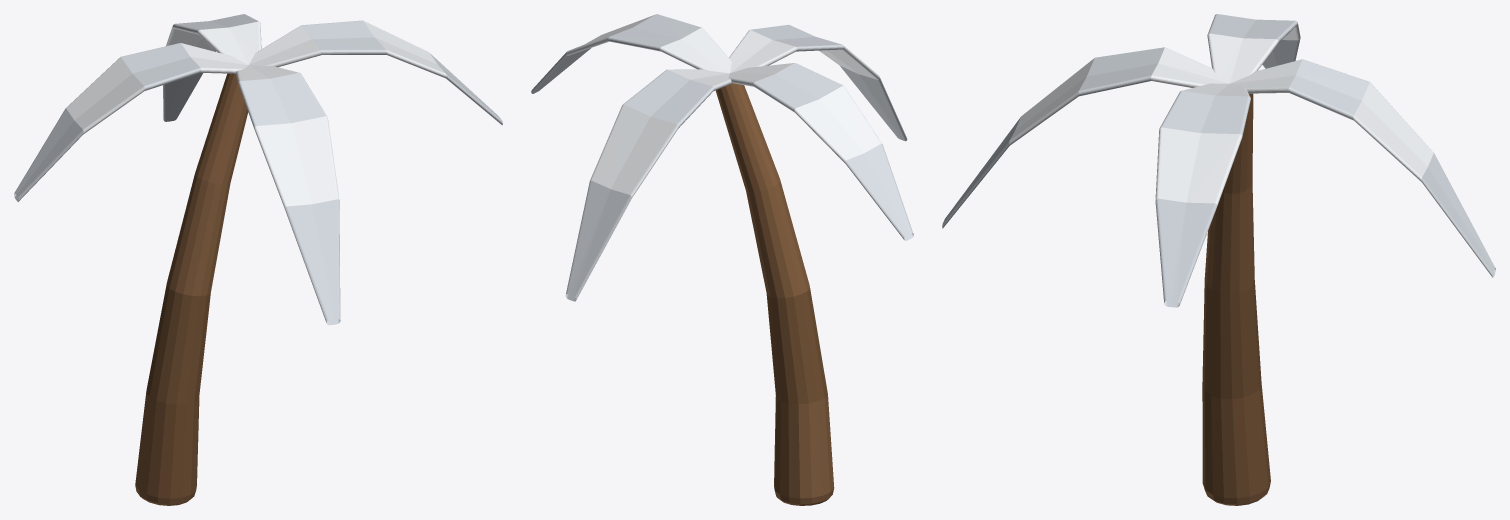
The model's file is PalmTreeFar.obj.
The picture shows the model from 3 angles, left to right: view 1: azimuth 30°, elevation 25°; view 2: azimuth 150°, elevation 25°; view 3: azimuth 270°, elevation 25°; orthographic projection. The views are drawn at different scales.
Size of the model in its own units: 7.1 by 6.75 by 7.13.
